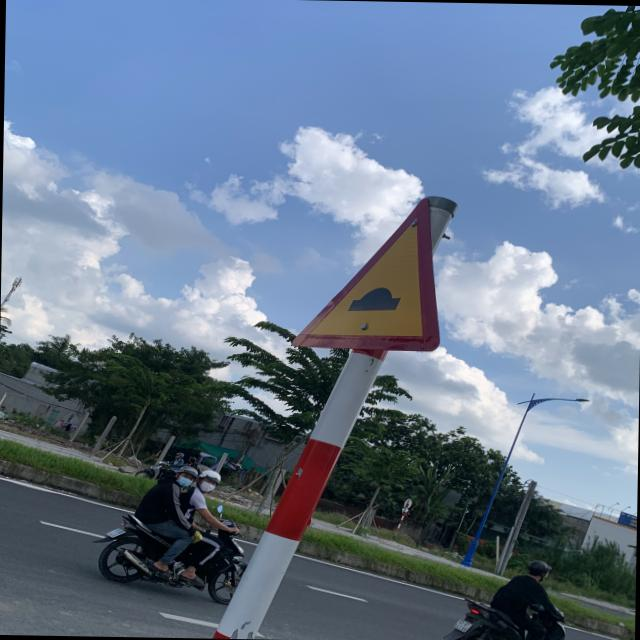Duong_Cong_Ben_Phai: (290, 192, 444, 351)
